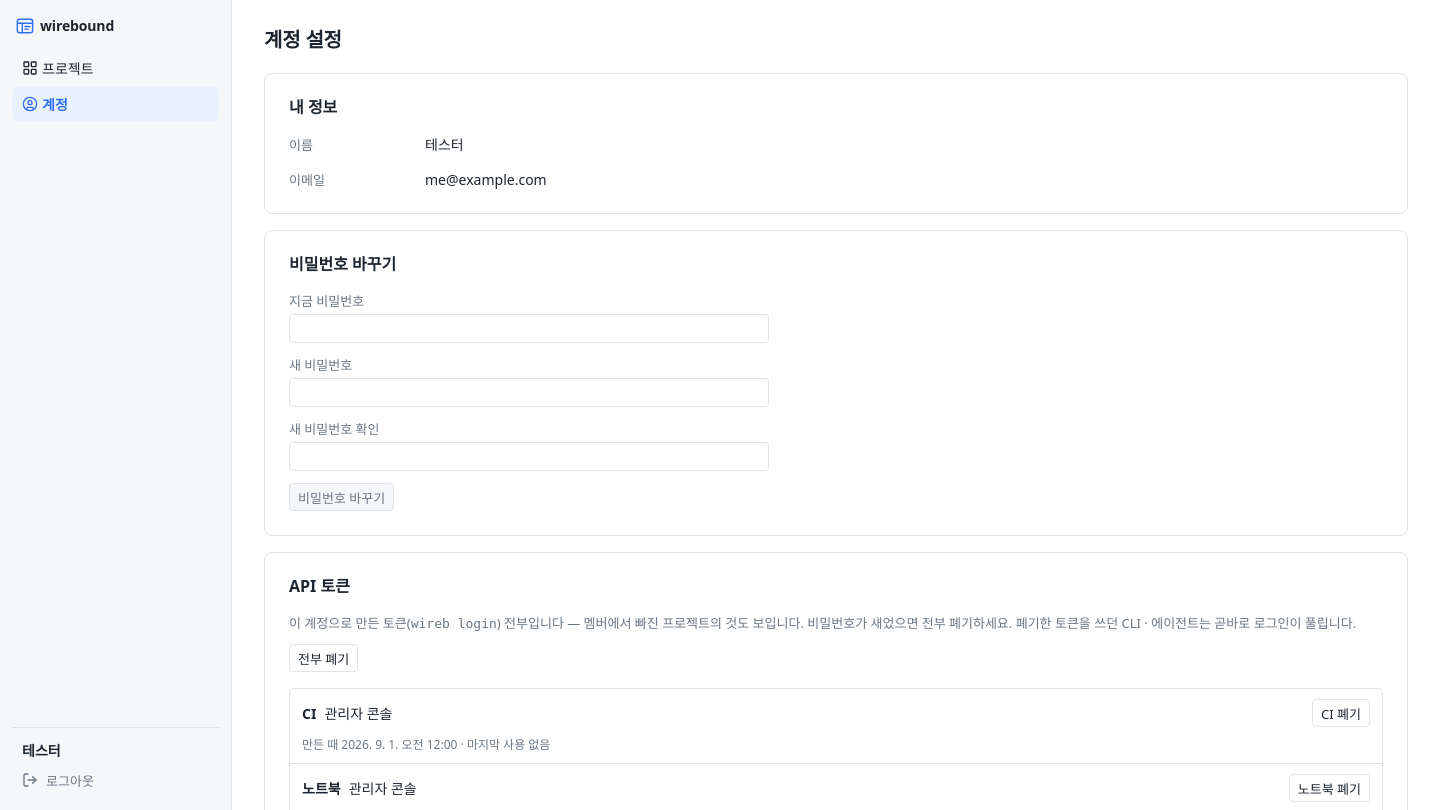
Test: API 토큰 절 › 전부 폐기 — 확인 뒤 한 번 부르고 거둔 수를 말한다 · 목록이 빈다
Click the button "전부 폐기": (324, 658) [289,644,358,672]
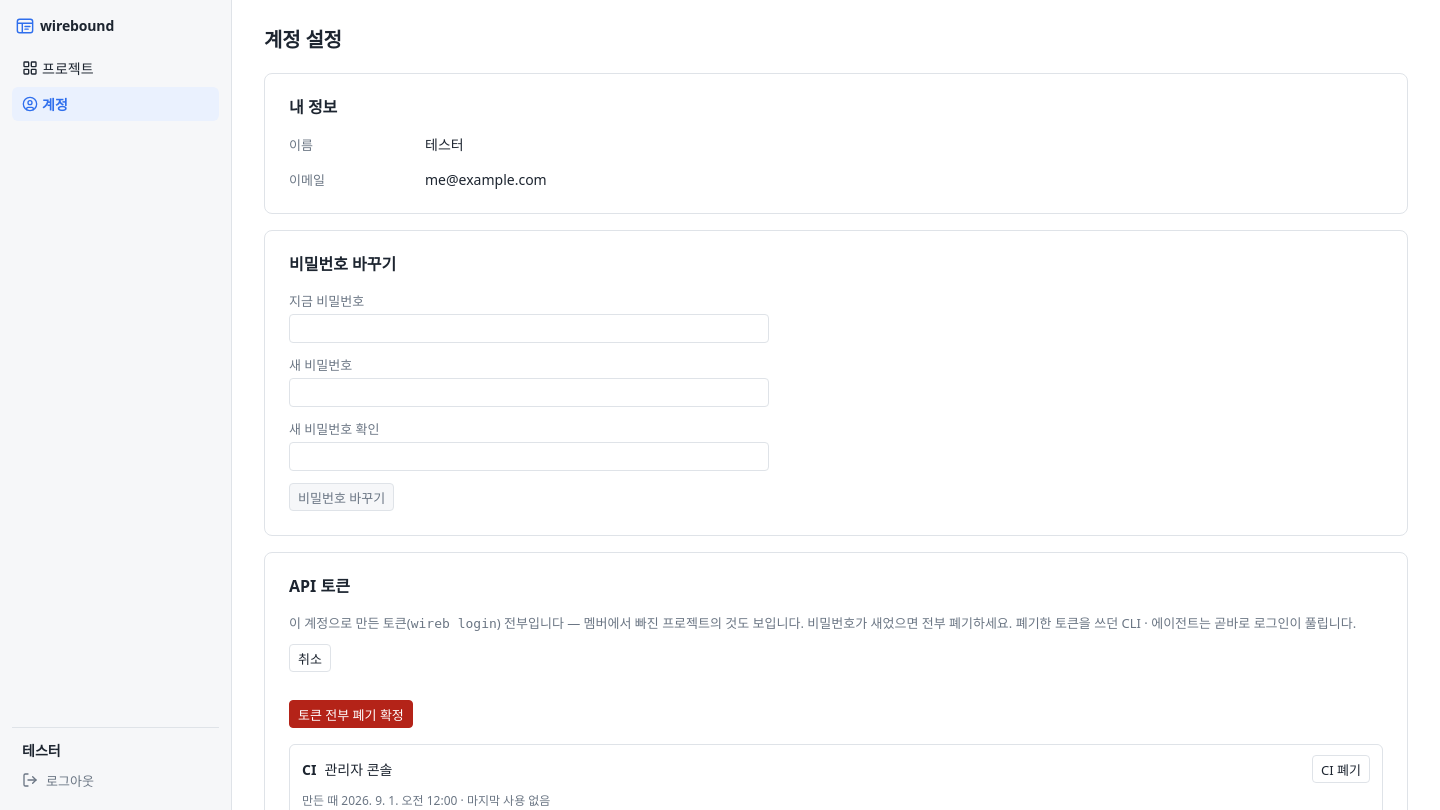
Click the button "토큰 전부 폐기 확정": (351, 714) [289,700,413,728]
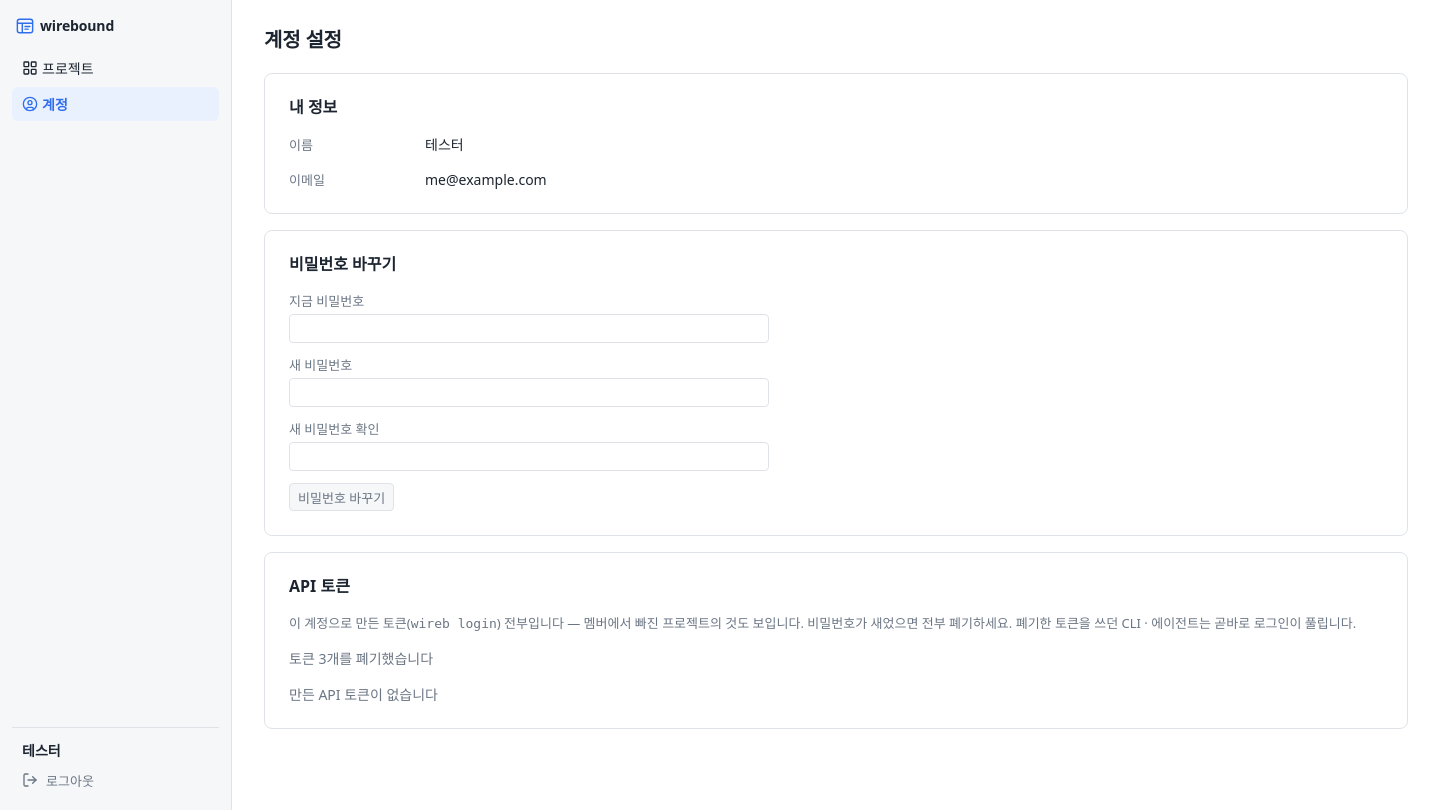
Expected: the text "토큰 3개를 폐기했습니다" is shown, [289,649,433,668]
Expected: the text "만든 API 토큰이 없습니다" is shown, [289,685,438,704]
